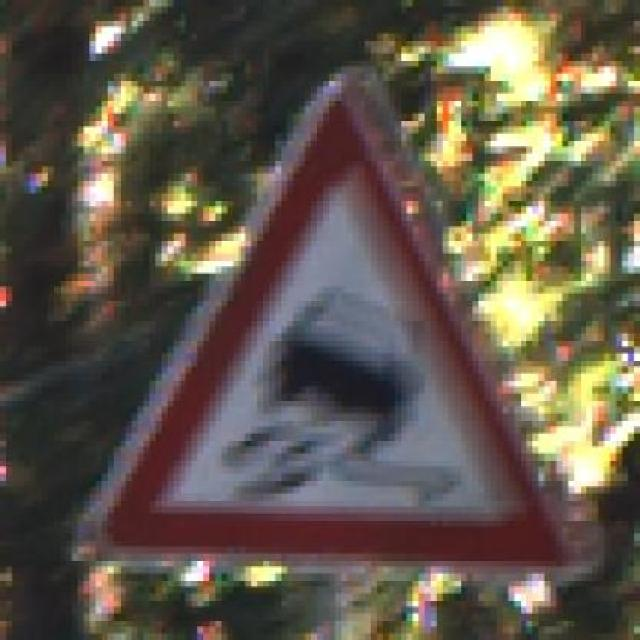Slippery Road Ahead: (78, 60, 580, 580)
